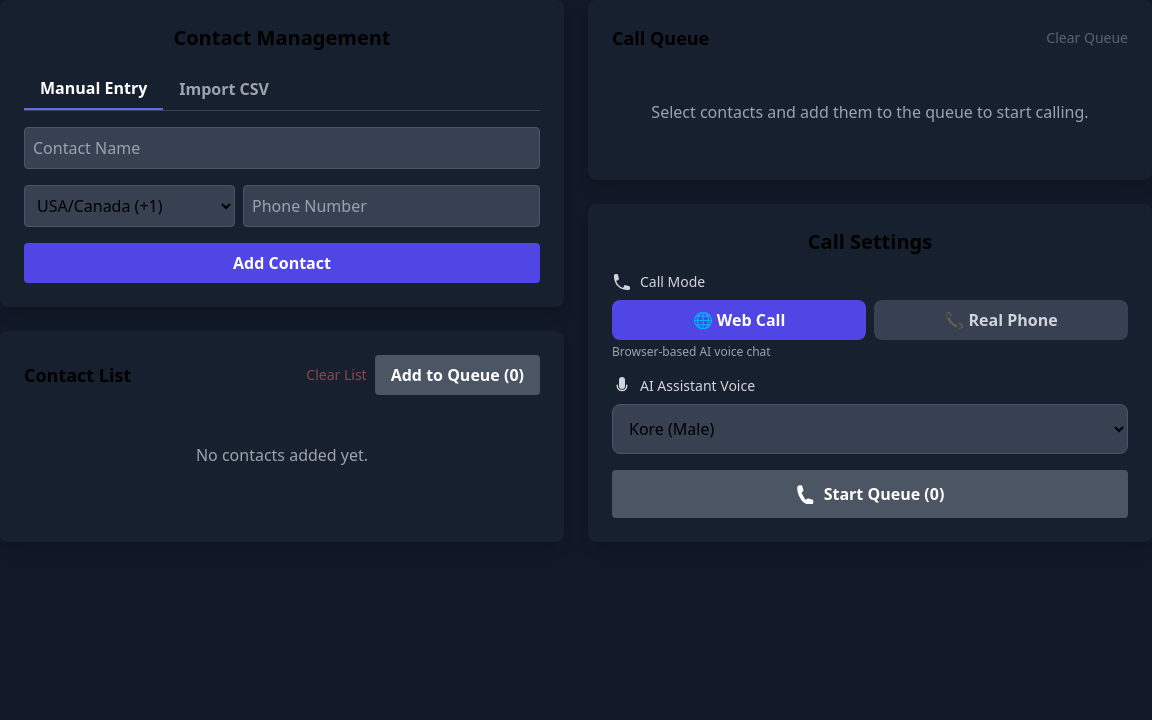
Test: LiveCall Component › shows error when adding empty contact
Click the button "Add Contact".
click(282, 263)  # box [24,243,540,283]
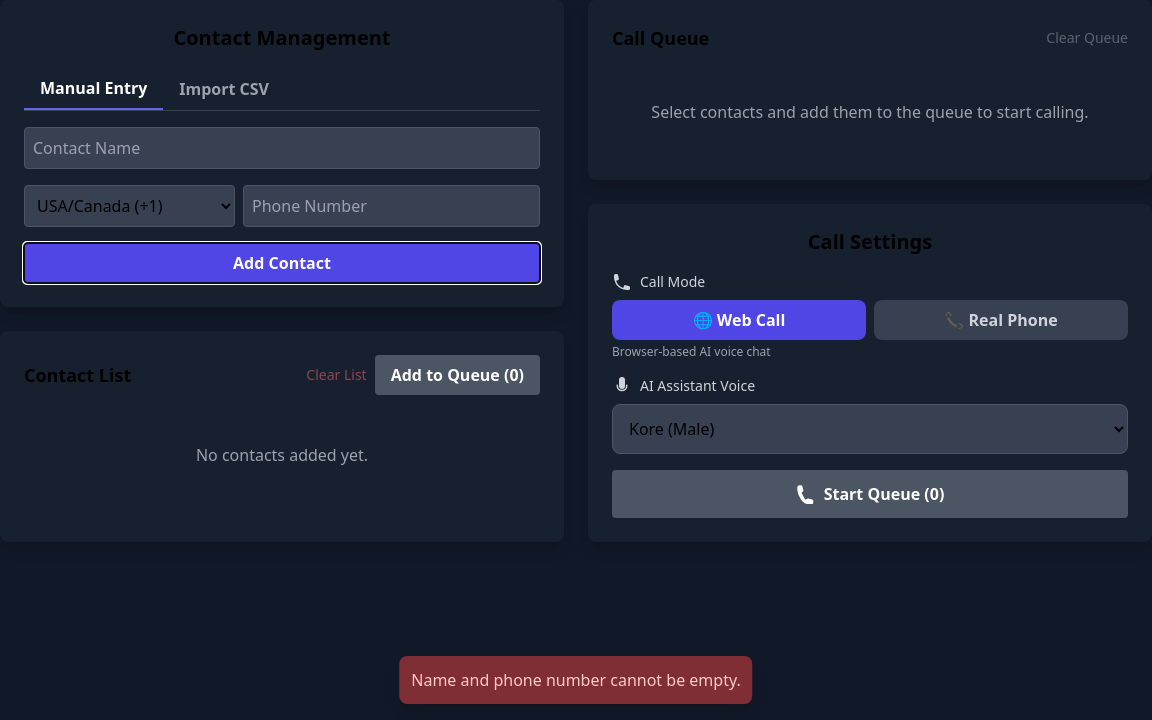
Expected: the text "Name and phone number cannot be empty." is shown, [399,656,753,704]
